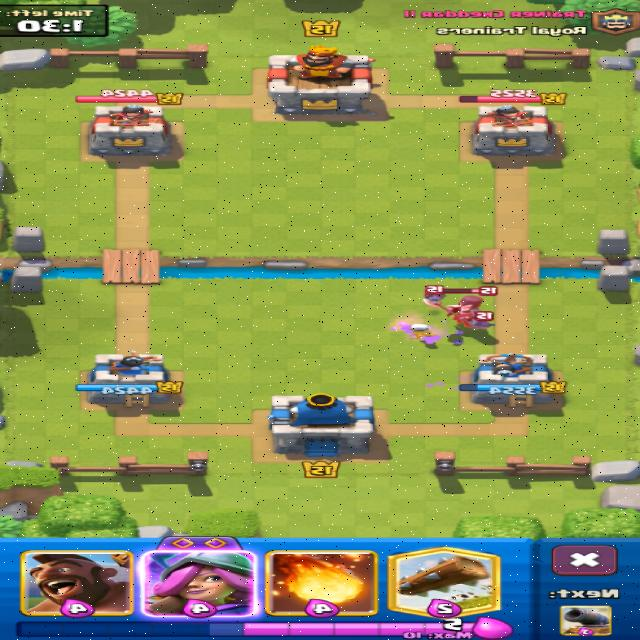Enemy-Bat: (425, 285, 446, 304), (474, 311, 494, 327)
Enemy-KingTower: (268, 45, 373, 113)
Enemy-NightWitch: (425, 287, 496, 327)
Enemy-PrincessTower: (89, 105, 172, 159), (473, 106, 556, 156)
Player-KingTower: (268, 393, 374, 456)
Player-PrincessTower: (460, 353, 566, 407), (76, 352, 180, 406)
Player-Skeleton: (411, 324, 434, 339)
